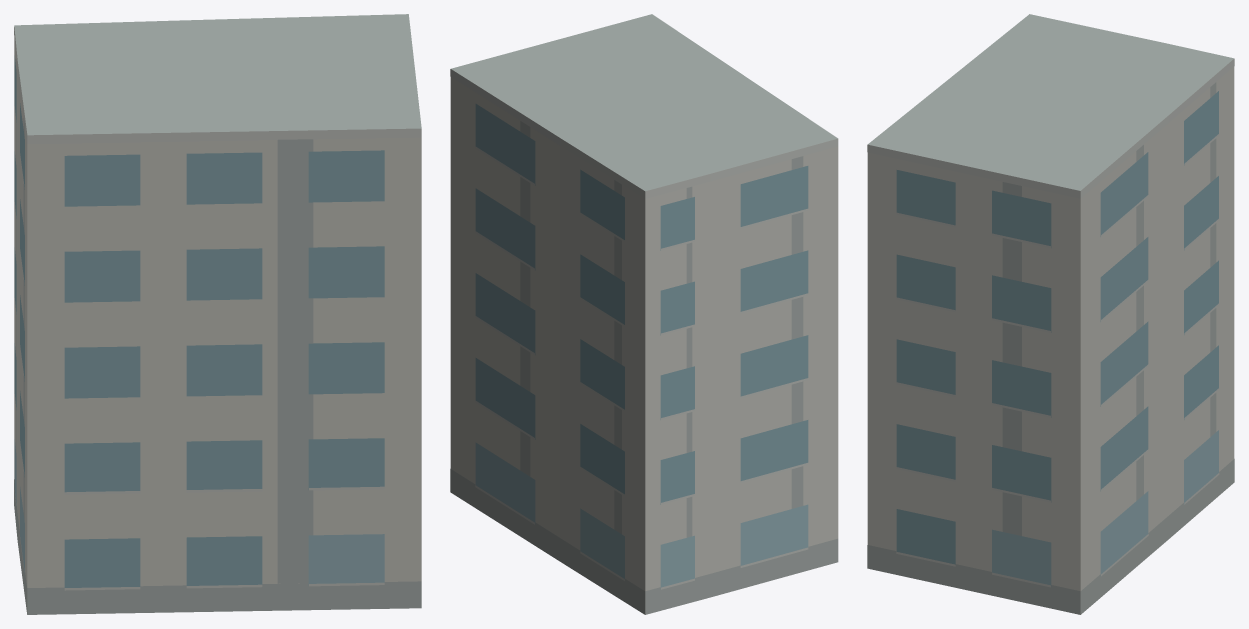
File: survey-upis-32940772.glb
3 views of the same model, side by side, from view 1: azimuth 30°, elevation 25°; view 2: azimuth 150°, elevation 25°; view 3: azimuth 270°, elevation 25° (orthographic). The views are drawn at different scales.
Visible parts, largest first — view 1: survey-upis-32940772.tmp; view 2: survey-upis-32940772.tmp; view 3: survey-upis-32940772.tmp.
Part boxes in pixels (x1,y1,x2,y2): survey-upis-32940772.tmp: (14, 14, 421, 614); survey-upis-32940772.tmp: (450, 14, 838, 614); survey-upis-32940772.tmp: (867, 14, 1234, 614).
Size of the model in its own units: 11.82 by 13.2 by 10.37.
